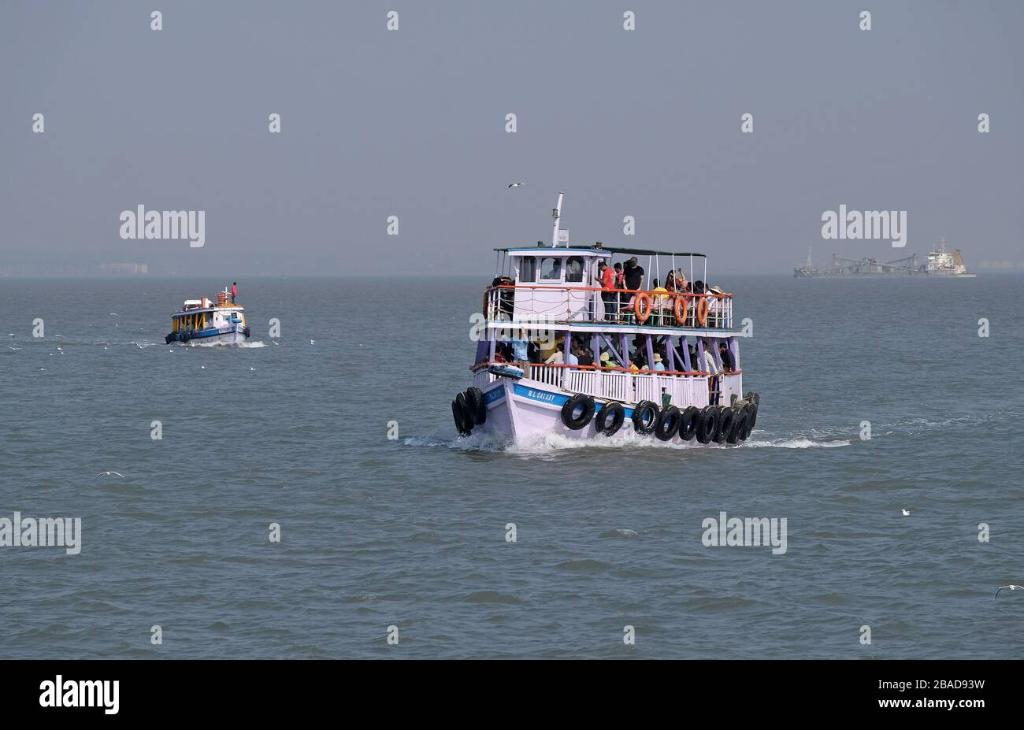PassengerShip: (437, 186, 773, 462), (157, 283, 253, 360)
